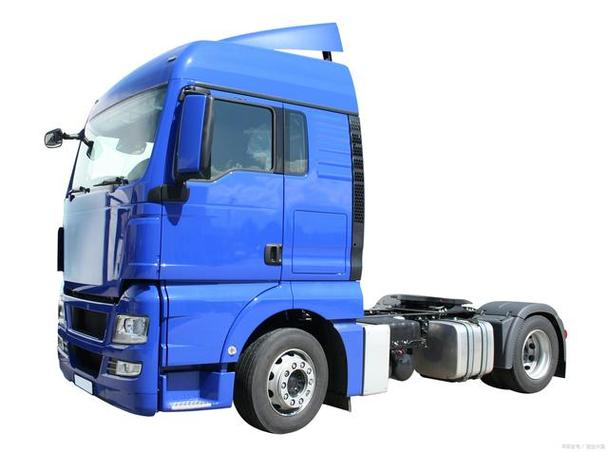卡车: (31, 13, 580, 428)
